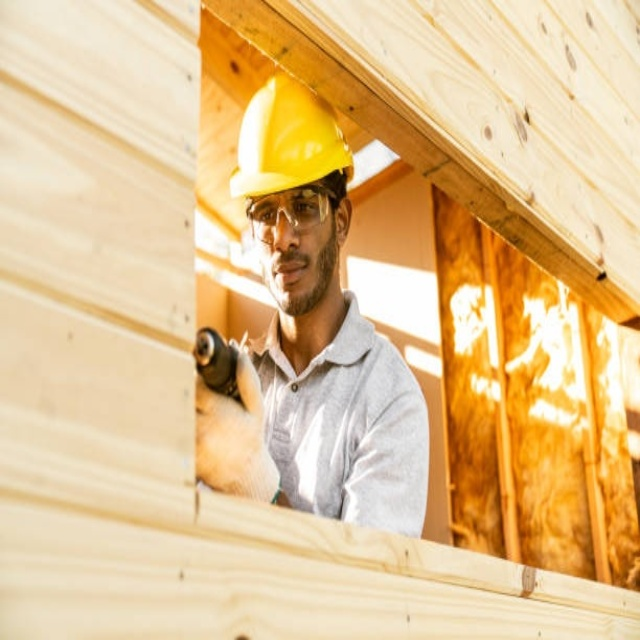Gafas: (247, 184, 338, 246)
Guantes: (195, 342, 284, 505)
Sin_mascara: (272, 259, 313, 306)
